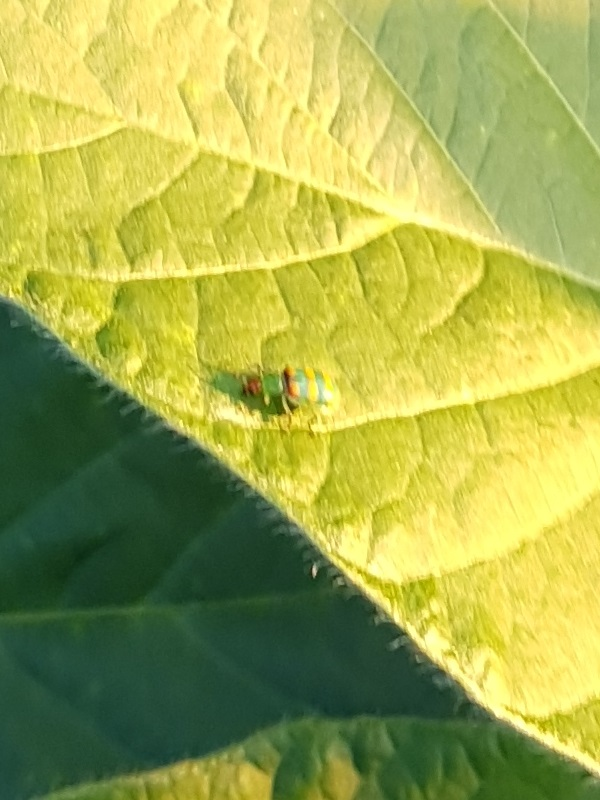Diabrotica_speciosa: (213, 341, 358, 446)
